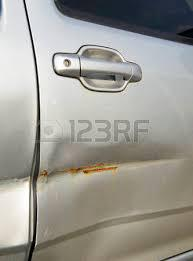doorouter-dent: (38, 8, 175, 260)
